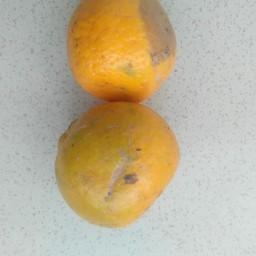Bad_orange: (52, 101, 184, 231), (64, 0, 182, 103)
